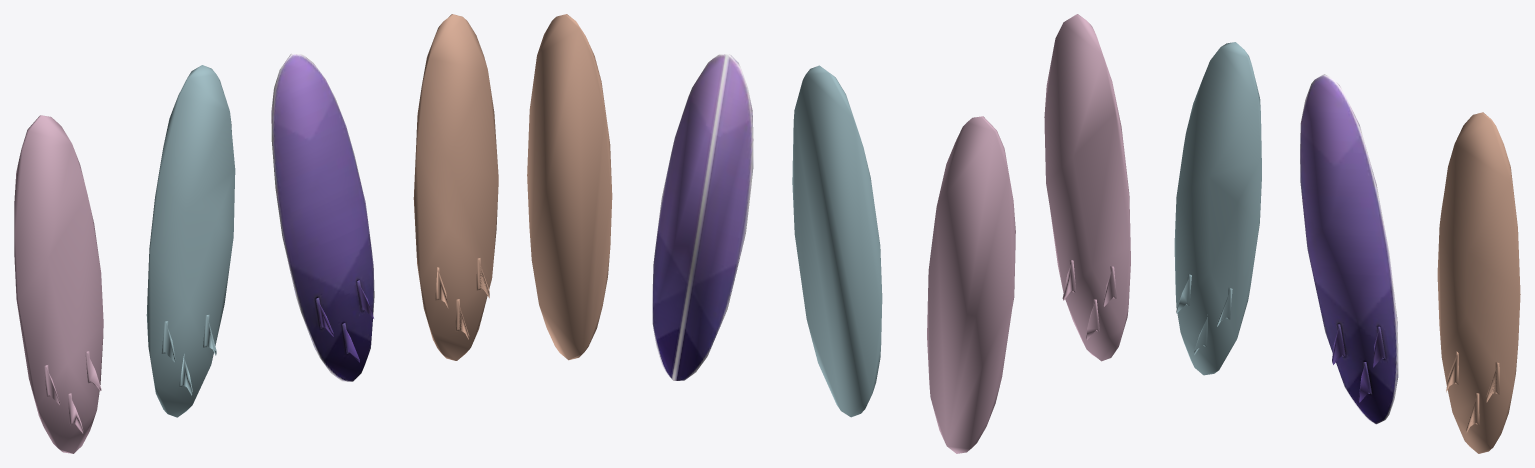
Rendered from surfboards.lod1.glb.
3 renders of one model, left to right at view 1: azimuth 30°, elevation 25°; view 2: azimuth 150°, elevation 25°; view 3: azimuth 330°, elevation 25°, orthographic. The views are drawn at different scales.
Visible parts, largest first — view 1: Surfboard_03_Surfboard_03_0, Surfboard_02_Surfboard_02_0; view 2: Surfboard_03_Surfboard_03_0, Surfboard_02_Surfboard_02_0; view 3: Surfboard_03_Surfboard_03_0, Surfboard_02_Surfboard_02_0.
Part boxes in pixels (x1,y1,x2,y2): Surfboard_03_Surfboard_03_0: (14, 14, 498, 453); Surfboard_02_Surfboard_02_0: (271, 54, 374, 381); Surfboard_03_Surfboard_03_0: (527, 14, 1015, 453); Surfboard_02_Surfboard_02_0: (652, 54, 753, 380); Surfboard_03_Surfboard_03_0: (1044, 14, 1520, 453); Surfboard_02_Surfboard_02_0: (1300, 74, 1398, 424).
Bounding box in the file's own units: 2.92 × 2.05 × 0.1859.
2 materials, 1 textured.
